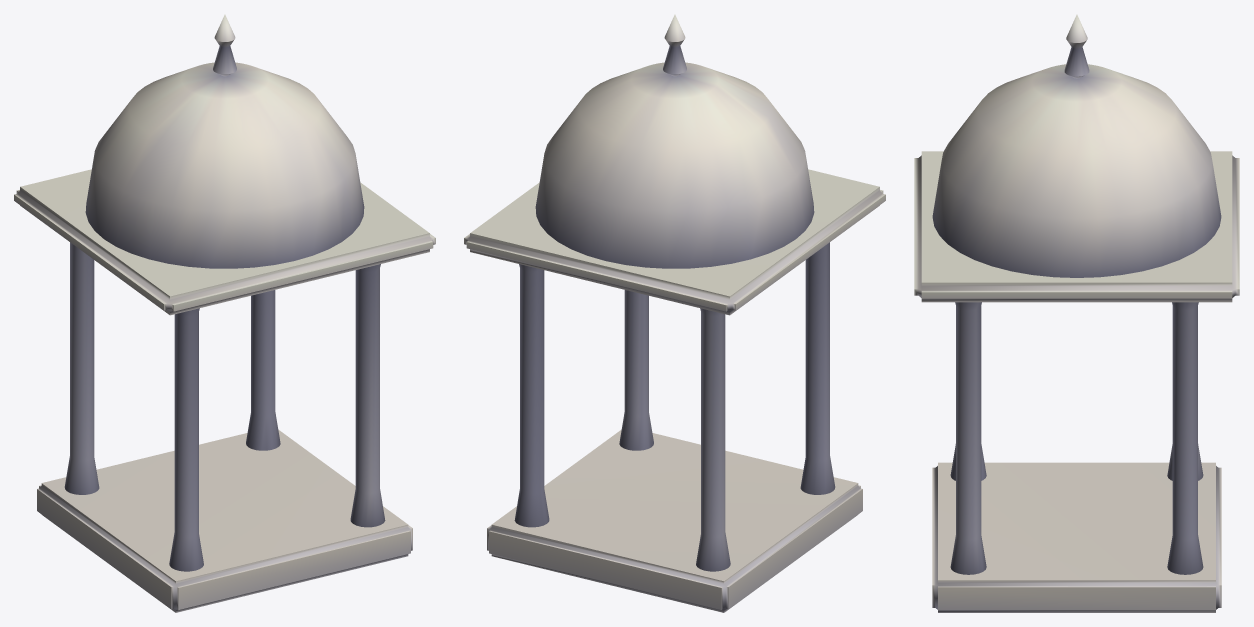
File: chhatri.glb
3 views of the same model, side by side, from view 1: azimuth 30°, elevation 25°; view 2: azimuth 150°, elevation 25°; view 3: azimuth 270°, elevation 25° (orthographic). The views are drawn at different scales.
Parts seen in each view (by area): view 1: body; view 2: body; view 3: body.
Part boxes in pixels (left/top/right/bottom): body: left=14, top=14, right=435, bottom=612; body: left=464, top=14, right=885, bottom=612; body: left=914, top=14, right=1239, bottom=612.
Bounding box in the file's own units: 1.8 × 3.3 × 1.8.
